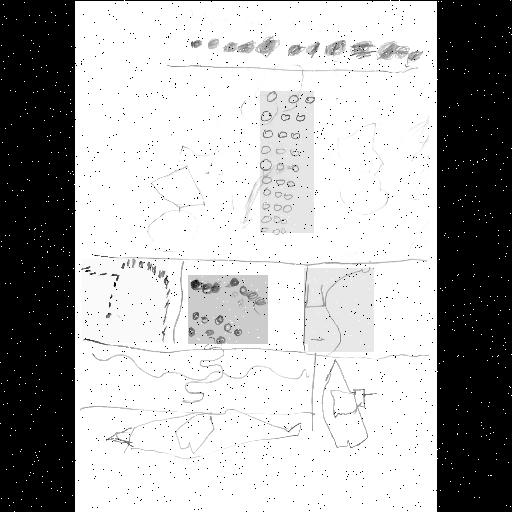shape-1: (148, 162, 204, 254)
shape-2: (192, 32, 422, 64)
shape-3: (260, 91, 314, 233)
shape-4: (188, 275, 268, 345)
shape-5: (304, 268, 374, 352)
shape-6: (82, 259, 168, 343)
shape-7: (90, 344, 308, 402)
shape-8: (321, 356, 379, 448)
shape-9: (109, 410, 303, 456)
